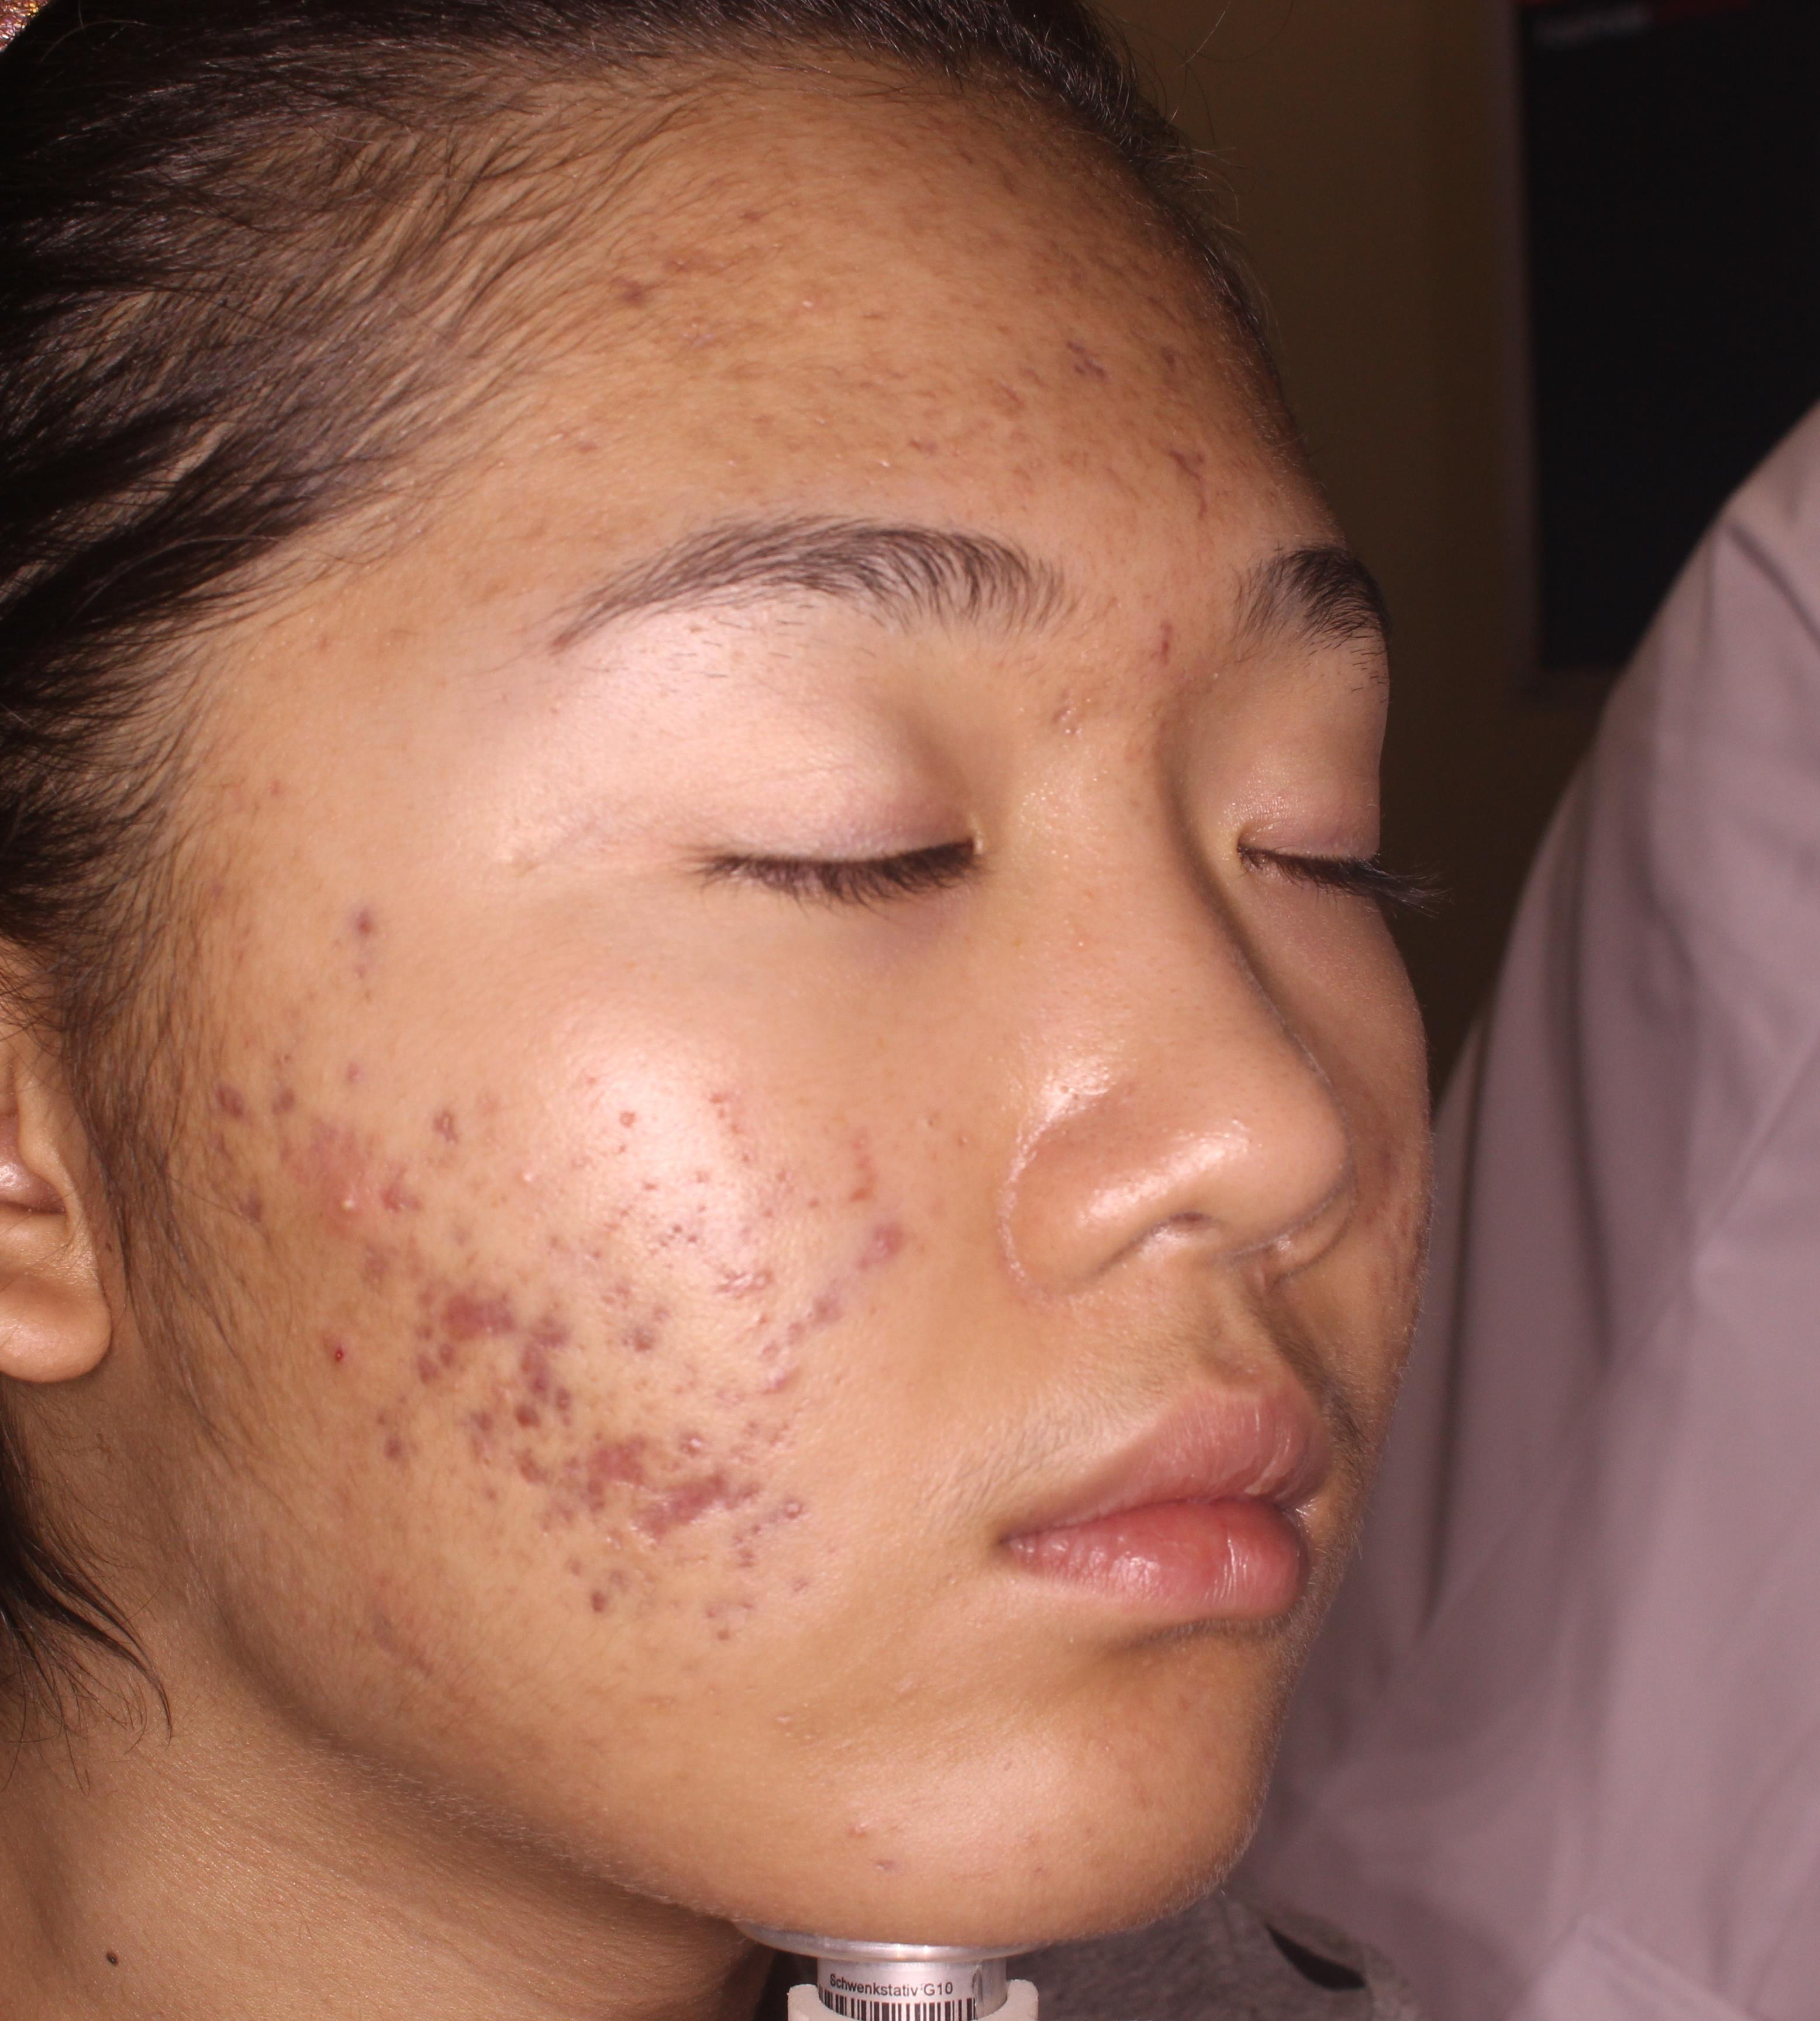fore: (785, 1254, 901, 1375), (297, 887, 401, 997), (485, 1384, 583, 1487), (392, 1312, 490, 1415), (213, 1038, 306, 1141), (441, 1262, 531, 1370), (1054, 307, 1138, 411), (320, 1150, 413, 1240), (849, 1205, 950, 1285), (646, 1464, 750, 1540), (1158, 455, 1228, 550), (557, 1550, 645, 1626), (511, 1298, 583, 1387), (1126, 604, 1193, 697), (583, 1410, 661, 1487), (606, 1298, 678, 1378), (956, 362, 1042, 428), (580, 232, 652, 304), (413, 1087, 480, 1162), (351, 1222, 418, 1280), (314, 1331, 369, 1380)
